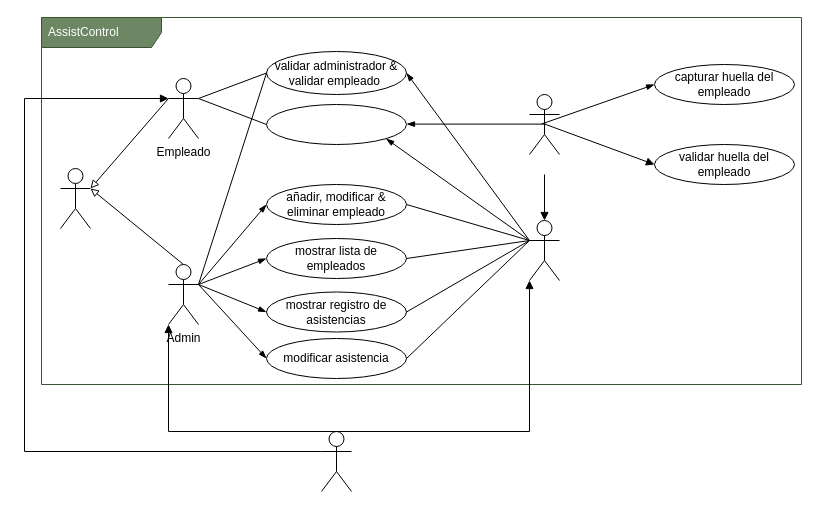
The diagram is 819 pixels wide and 530 high, and some of its shapes have lost their labels. Each missing label, with the box of its shape:
AppAssistControl: (528, 220, 560, 280)
Empresa: (320, 430, 352, 492)
HuellaDigital: (528, 94, 560, 154)
registrar entrada & salida: (266, 104, 406, 144)
Usuario: (60, 168, 90, 228)
